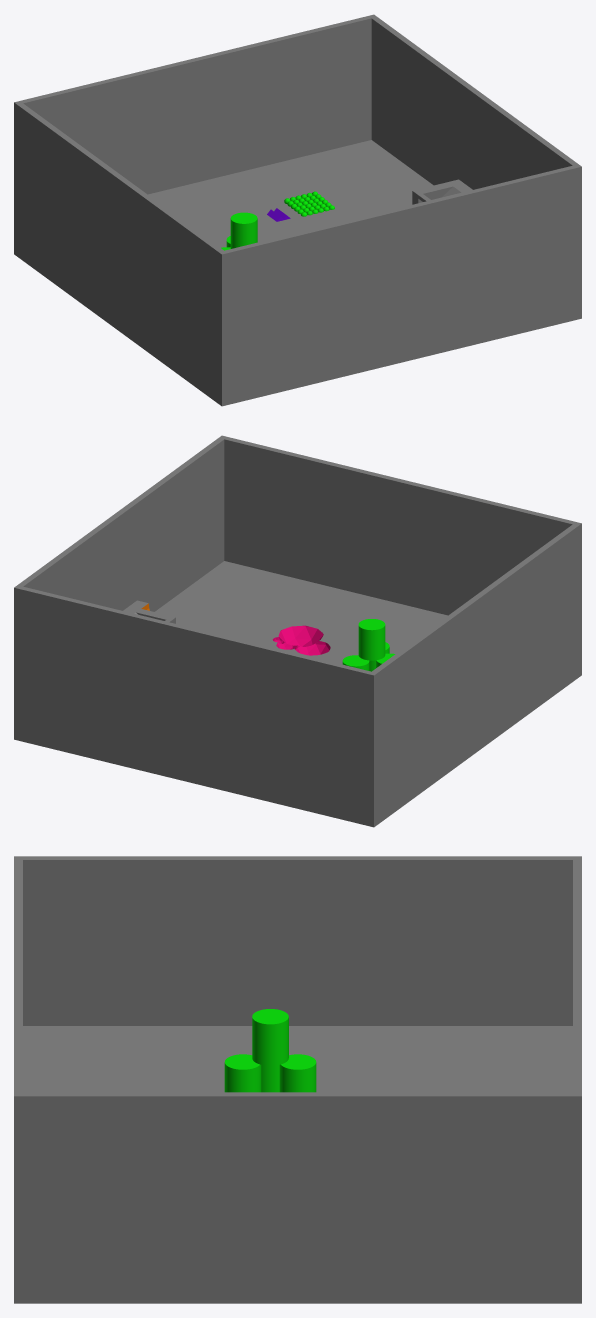
Rendered from Map.fbx.
The picture shows the model from 3 angles, top to bottom: view 1: azimuth 30°, elevation 25°; view 2: azimuth 150°, elevation 25°; view 3: azimuth 270°, elevation 25°; orthographic projection. The views are drawn at different scales.
Visible parts, largest first — view 1: Cube, Cylinder, Cube.003, Icosphere; view 2: Cube, Cylinder; view 3: Cube, Cylinder.
Part boxes in pixels (x1,y1,x2,y2): Cube: [14, 14, 581, 406]; Cylinder: [221, 212, 257, 250]; Cube.003: [412, 179, 472, 204]; Icosphere: [284, 191, 334, 216]; Cube: [14, 435, 581, 827]; Cylinder: [342, 619, 395, 671]; Cube: [14, 856, 581, 1303]; Cylinder: [224, 1009, 316, 1092].
Size of the model in its own units: 6200 by 2500 by 6200.
